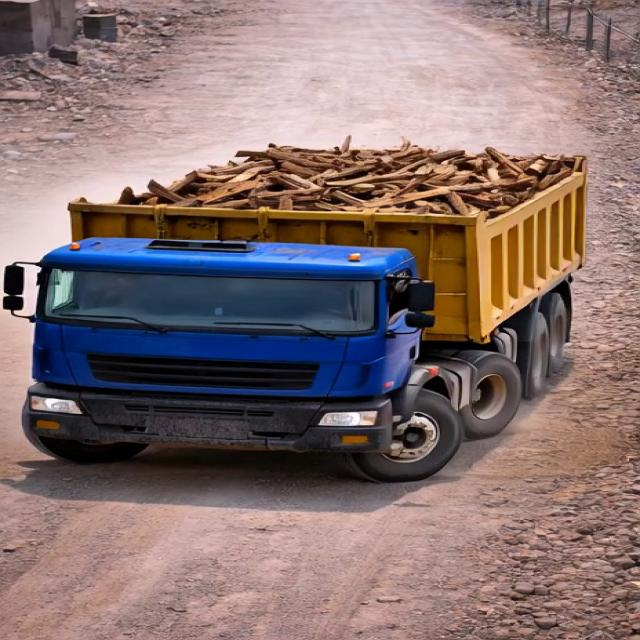trailer: (55, 137, 592, 229)
truck: (0, 116, 597, 490)
